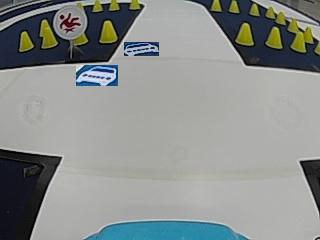cone: (235, 21, 254, 46), (40, 23, 57, 48), (99, 20, 117, 43), (265, 26, 282, 49), (18, 30, 32, 51), (291, 32, 305, 52), (228, 0, 240, 14), (249, 2, 260, 16), (210, 0, 222, 12), (304, 26, 312, 43), (276, 10, 285, 25), (266, 5, 275, 19), (92, 0, 102, 12), (109, 0, 119, 11), (129, 0, 139, 10)
tumble: (57, 8, 84, 35)
